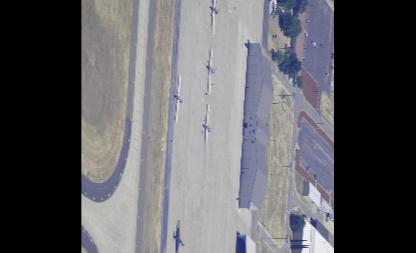P3: (204, 103, 214, 151), (208, 45, 218, 93), (210, 0, 221, 34), (176, 73, 183, 121)
Tu160: (174, 218, 183, 251)
